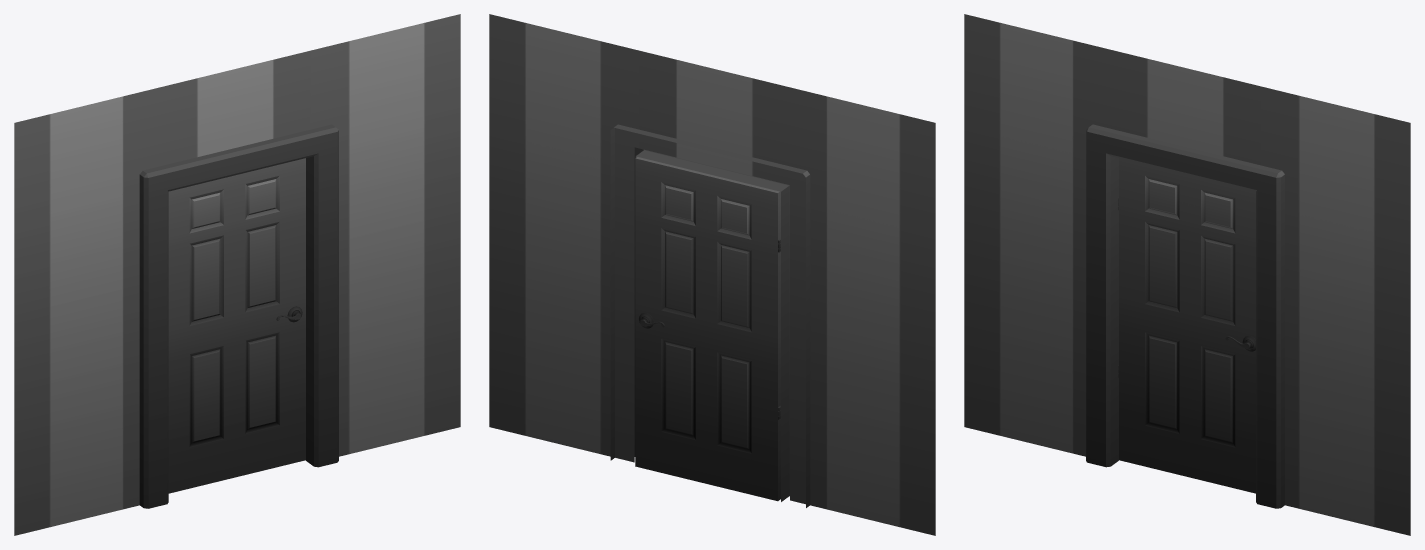
The model's file is Wall_01_Door_02.fbx.
3 views of the same model, side by side, from view 1: azimuth 30°, elevation 25°; view 2: azimuth 150°, elevation 25°; view 3: azimuth 330°, elevation 25° (orthographic).
Visible parts, largest first — view 1: Wall_01_Door_02; view 2: Wall_01_Door_02; view 3: Wall_01_Door_02.
Boxes of the visible parts, x1,y1,x2,y2 form: Wall_01_Door_02: (14,14,460,535); Wall_01_Door_02: (489,14,935,535); Wall_01_Door_02: (964,14,1410,535).
Size of the model in its own units: 3 by 2.65 by 0.1764.
